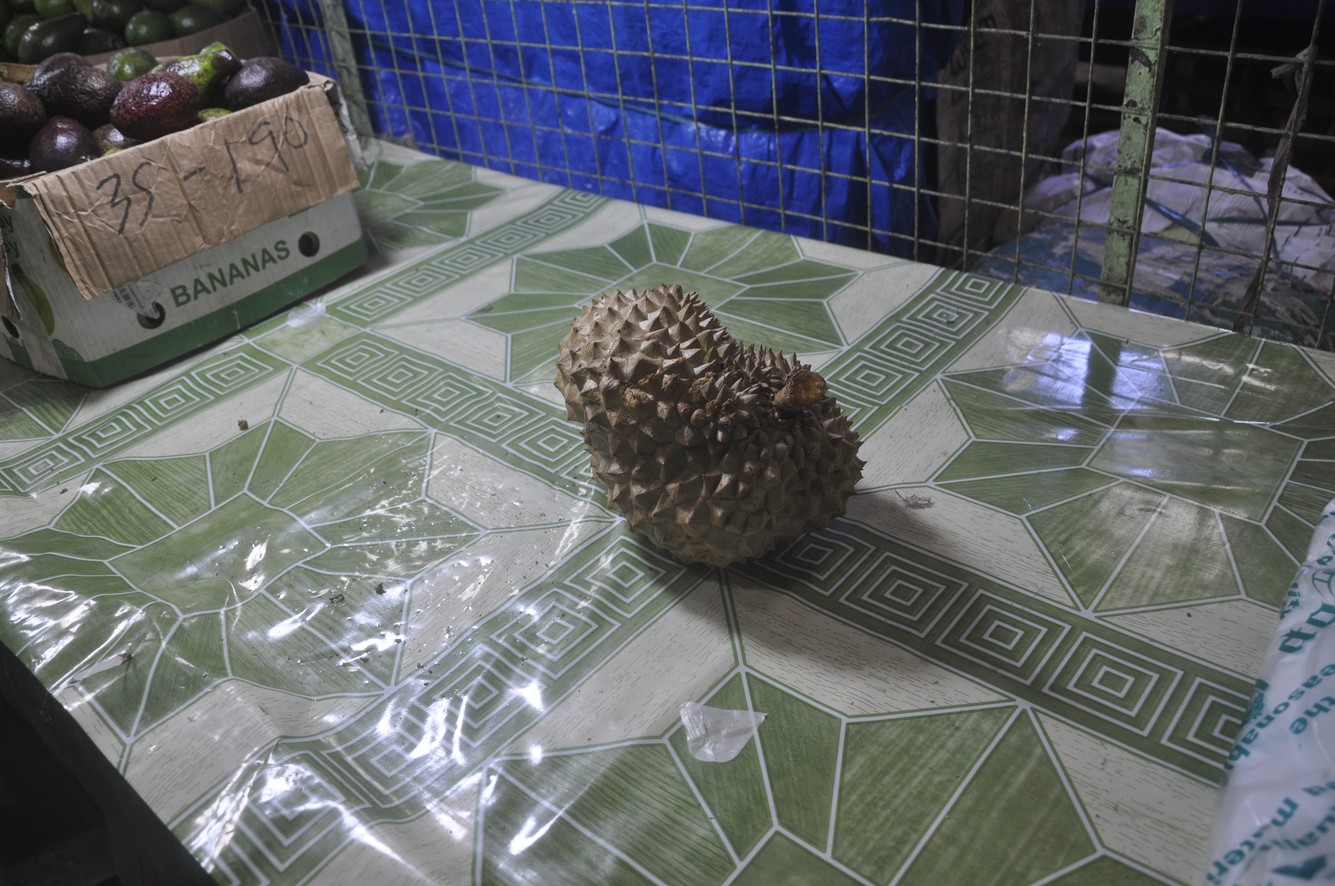mature: (555, 284, 864, 566)
